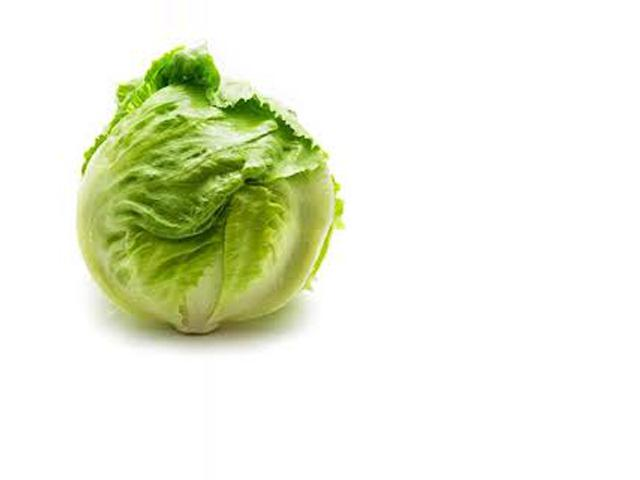lettuce: (65, 45, 365, 344)
